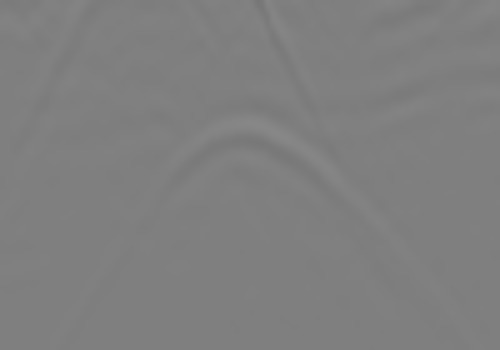hyperbola: (86, 113, 456, 307)
